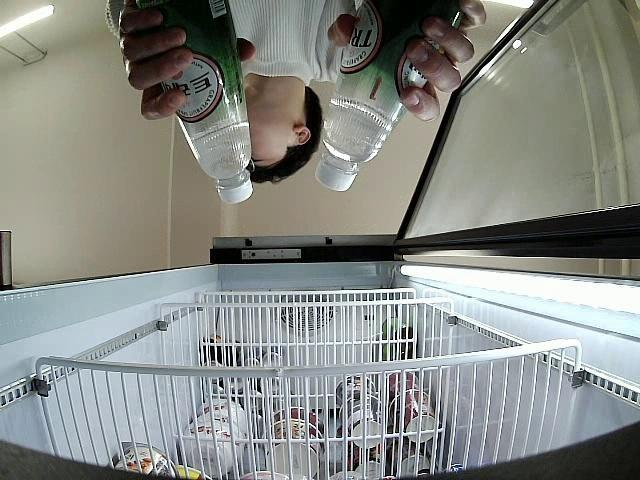18_trevi: (315, 0, 456, 190), (125, 0, 254, 204)
